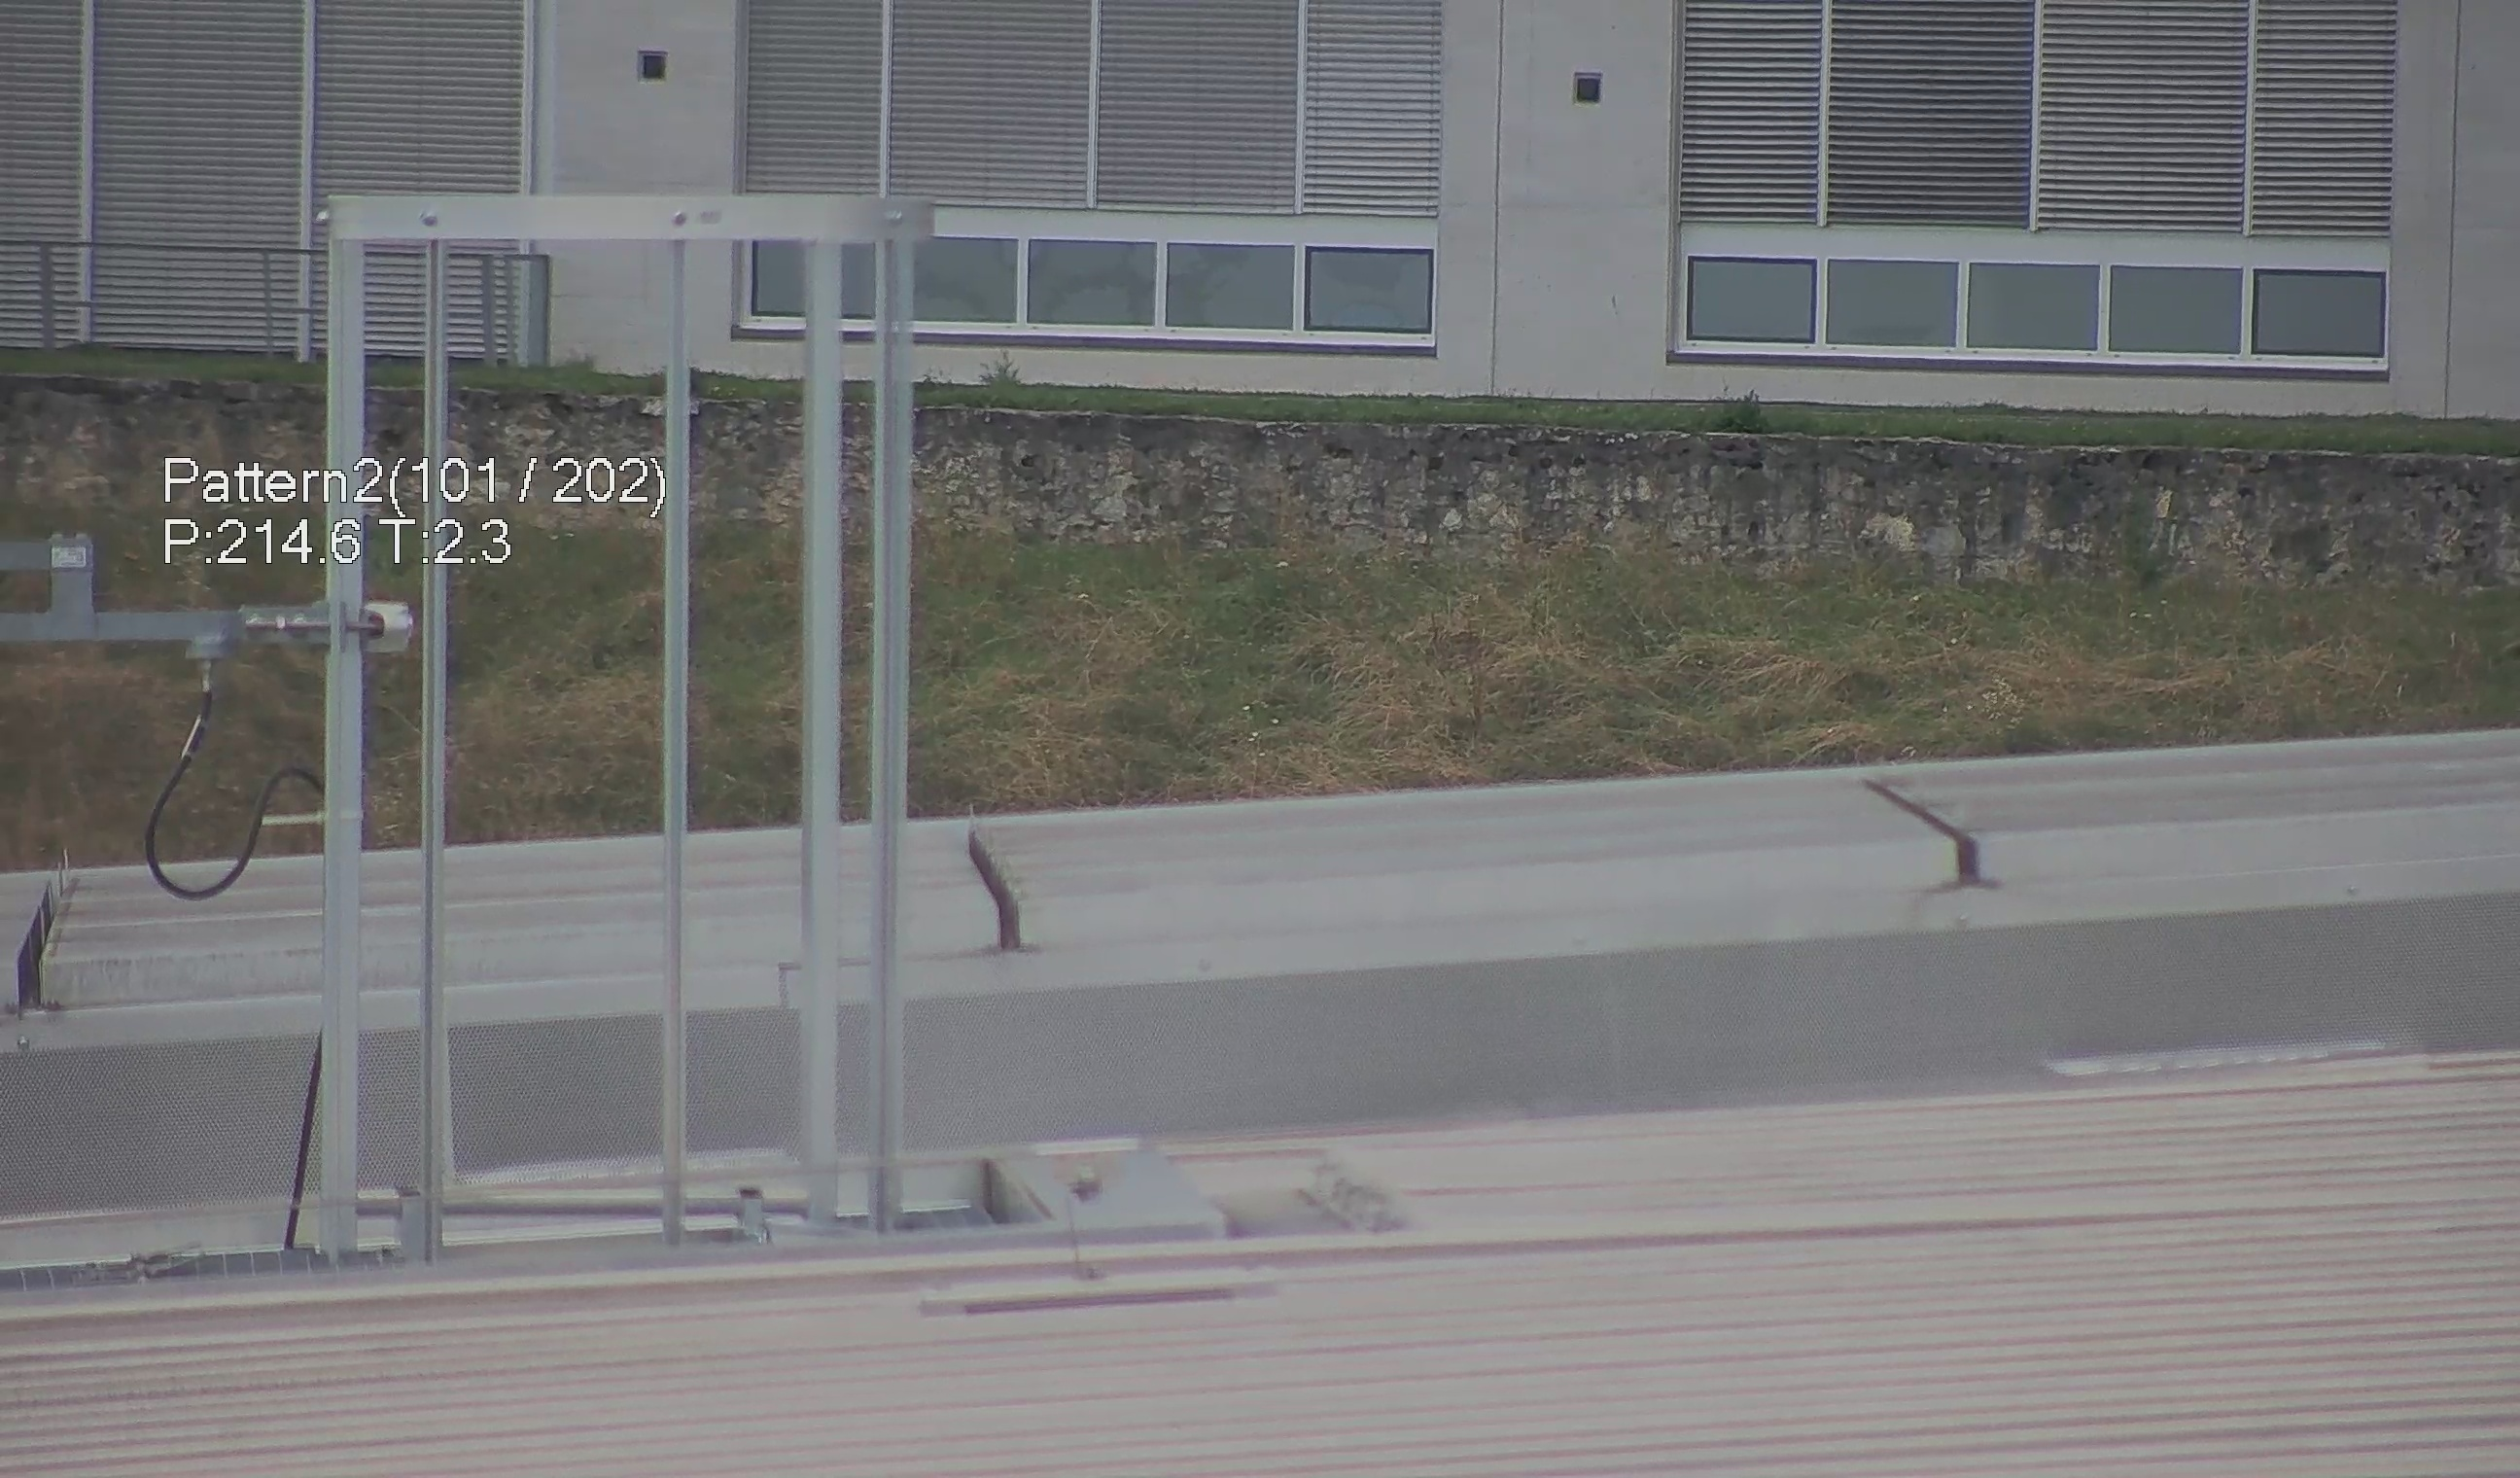Other: (944, 809, 1036, 964)
